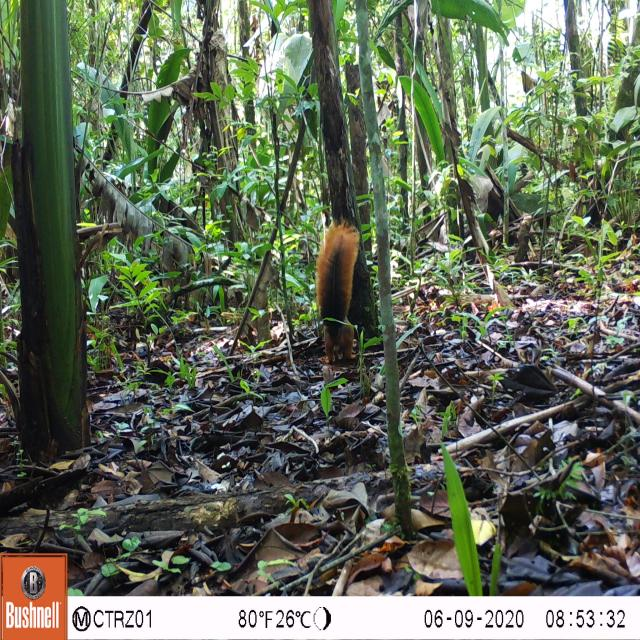Squirrel: (307, 217, 373, 368)
